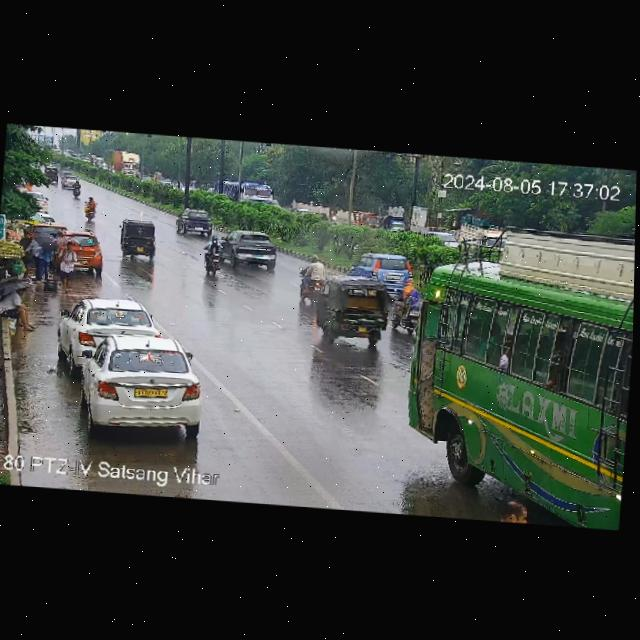bus: (403, 216, 635, 430)
car: (76, 333, 210, 437), (59, 294, 155, 367), (316, 277, 397, 337), (218, 227, 279, 271), (347, 252, 414, 292), (57, 232, 104, 277), (116, 220, 159, 261), (174, 206, 217, 236), (40, 166, 60, 186), (62, 172, 82, 191)
motorcycle: (295, 254, 330, 308), (199, 236, 227, 275), (79, 195, 101, 221), (70, 181, 83, 200)
person: (0, 283, 41, 333), (52, 235, 79, 294), (31, 231, 55, 282), (19, 229, 35, 278)
truck: (212, 179, 280, 206), (111, 148, 142, 180)
